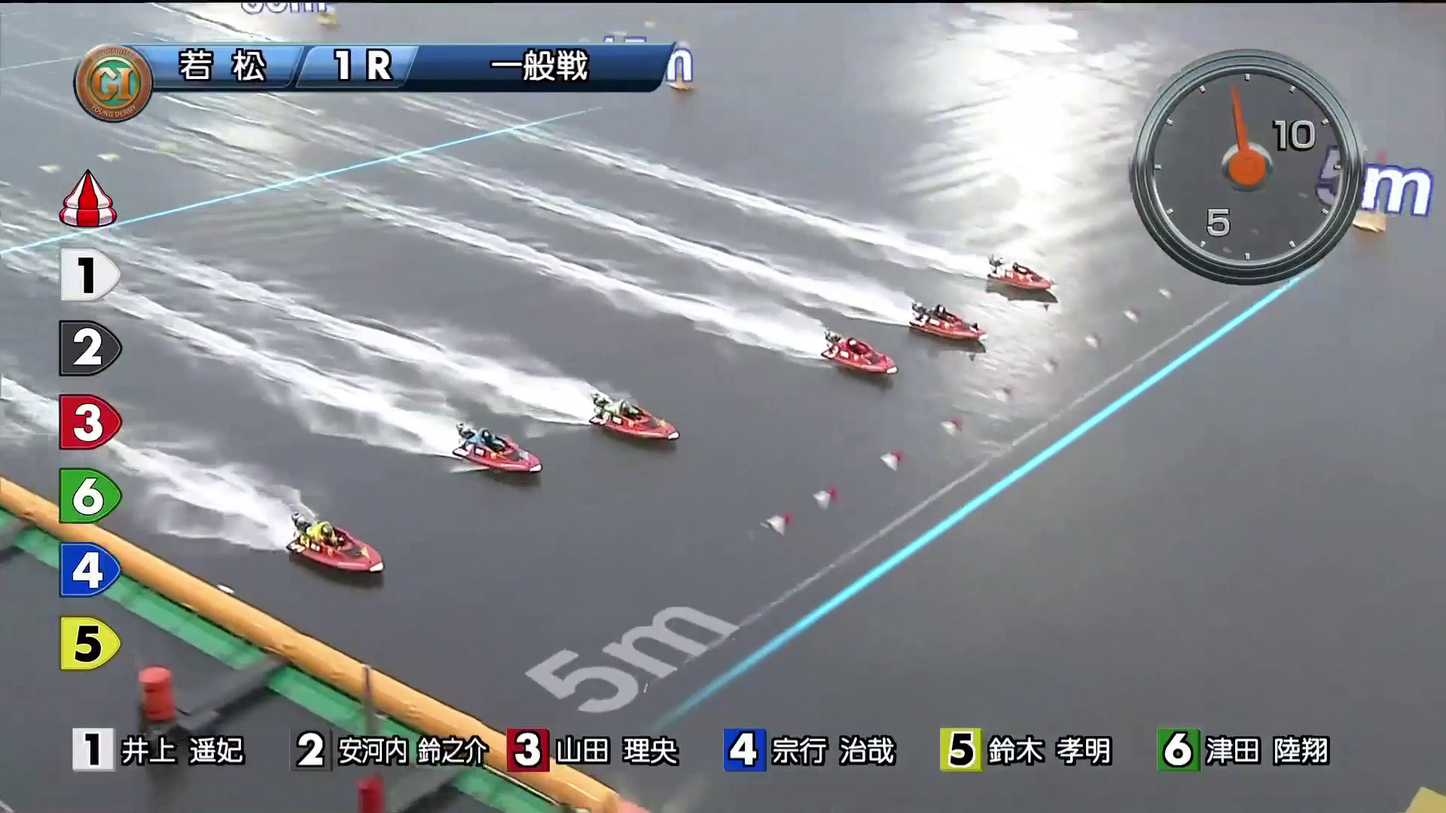１号艇: (955, 246, 1024, 292)
２号艇: (914, 296, 976, 334)
３号艇: (826, 329, 881, 371)
４号艇: (615, 396, 678, 439)
５号艇: (485, 449, 554, 487)
６号艇: (361, 558, 426, 605)
